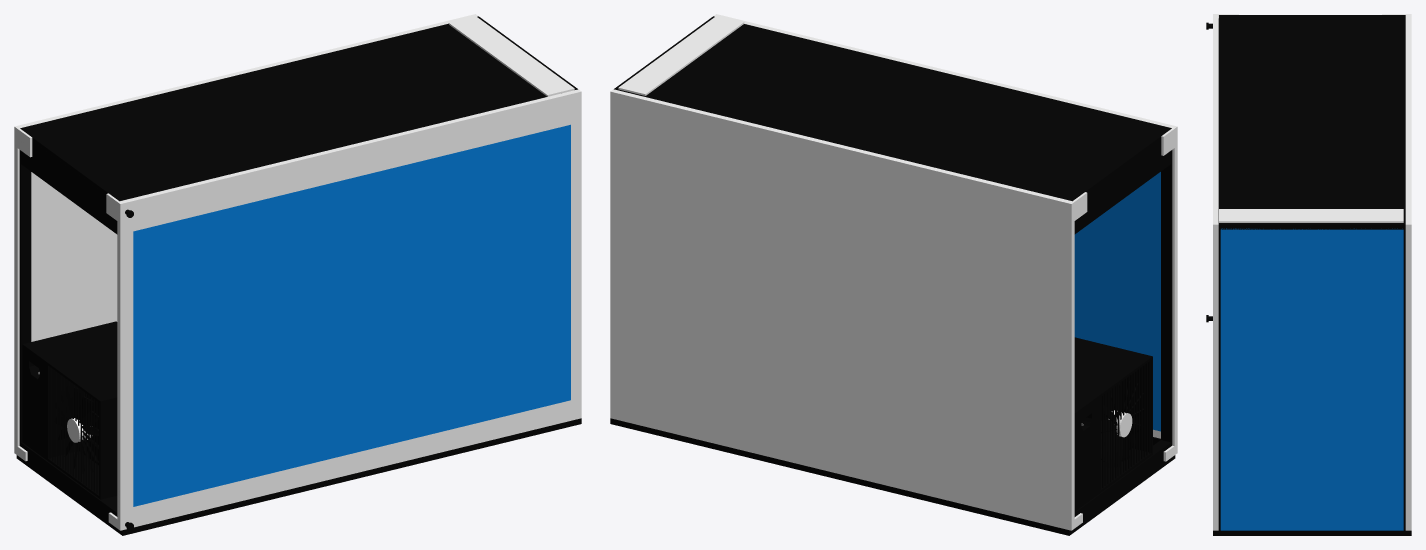
File: pccasefati.fbx
3 renders of one model, left to right at view 1: azimuth 30°, elevation 25°; view 2: azimuth 150°, elevation 25°; view 3: azimuth 270°, elevation 25°, orthographic. The views are drawn at different scales.
Visible parts, largest first — view 1: rightglass, Plane, right, left, power, Plane.001; view 2: left, Plane, rightglass, power, right, Plane.001; view 3: frontglass, Plane, left, right, Plane.001.
Boxes of the visible parts, left/top/right/bottom form: rightglass: left=133, top=124, right=570, bottom=506; Plane: left=16, top=16, right=581, bottom=535; right: left=106, top=89, right=581, bottom=530; left: left=14, top=14, right=478, bottom=461; power: left=22, top=321, right=117, bottom=499; Plane.001: left=449, top=16, right=574, bottom=96; left: left=610, top=89, right=1087, bottom=530; Plane: left=610, top=16, right=1175, bottom=535; rightglass: left=1074, top=172, right=1160, bottom=431; power: left=1074, top=337, right=1152, bottom=511; right: left=713, top=14, right=1177, bottom=461; Plane.001: left=618, top=15, right=744, bottom=95; frontglass: left=1220, top=228, right=1403, bottom=530; Plane: left=1213, top=15, right=1411, bottom=535; left: left=1382, top=14, right=1411, bottom=530; right: left=1213, top=14, right=1238, bottom=530; Plane.001: left=1219, top=209, right=1403, bottom=222.
Bounding box in the file's own units: 251 × 174 × 103.
